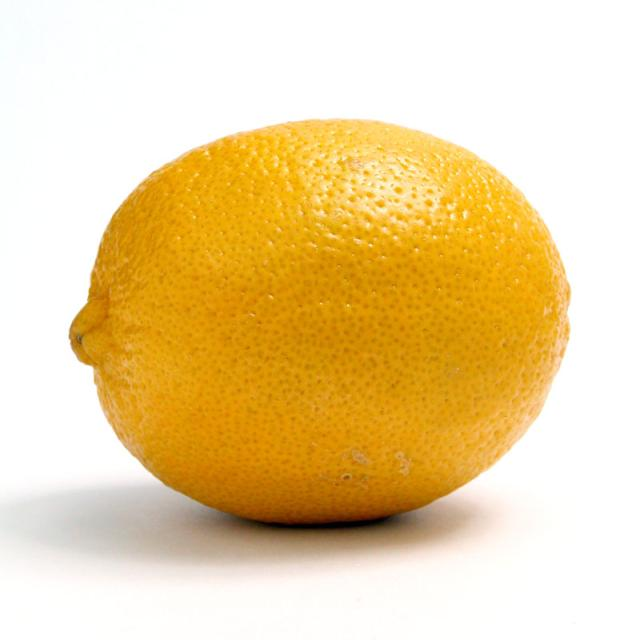lemon: (55, 116, 590, 524)
